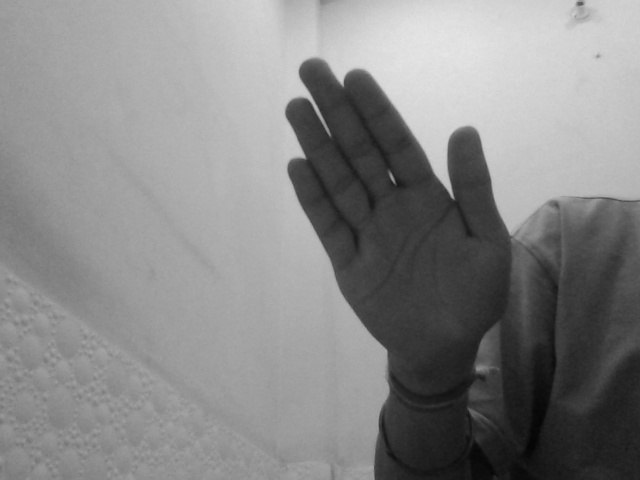Hello: (281, 54, 513, 372)
